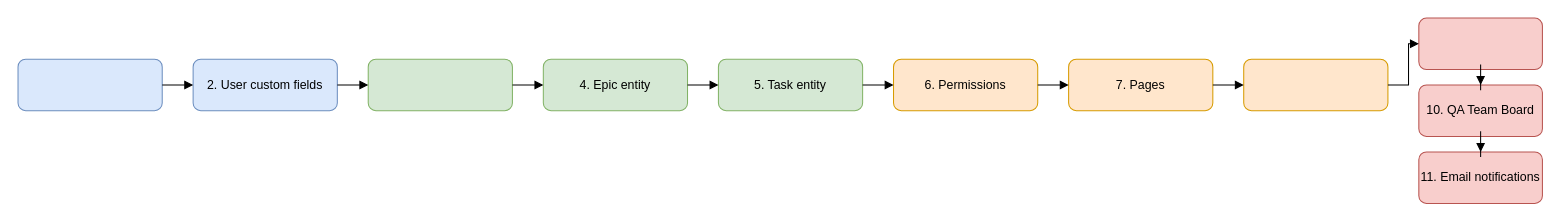
The diagram is 1560 pixels wide and 221 high, and some of its shapes have lost their labels. Each missing label, with the centre of its shape:
1. Users and Groups: (89,84)
3. Project entity: (439,84)
8. Workflows: (1315,84)
9. Gantt: (1480,43)
